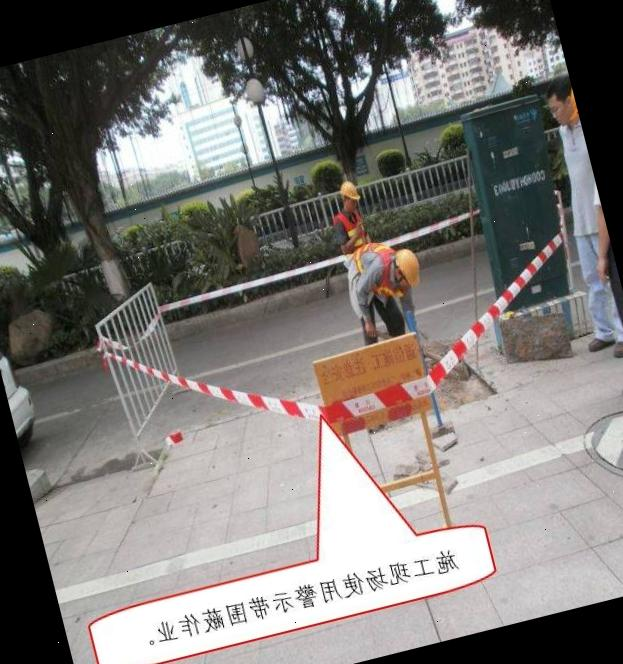helmet: (392, 245, 425, 291), (336, 177, 362, 206), (470, 320, 488, 340), (450, 337, 468, 356)
wear: (350, 240, 404, 309), (331, 208, 372, 251)
